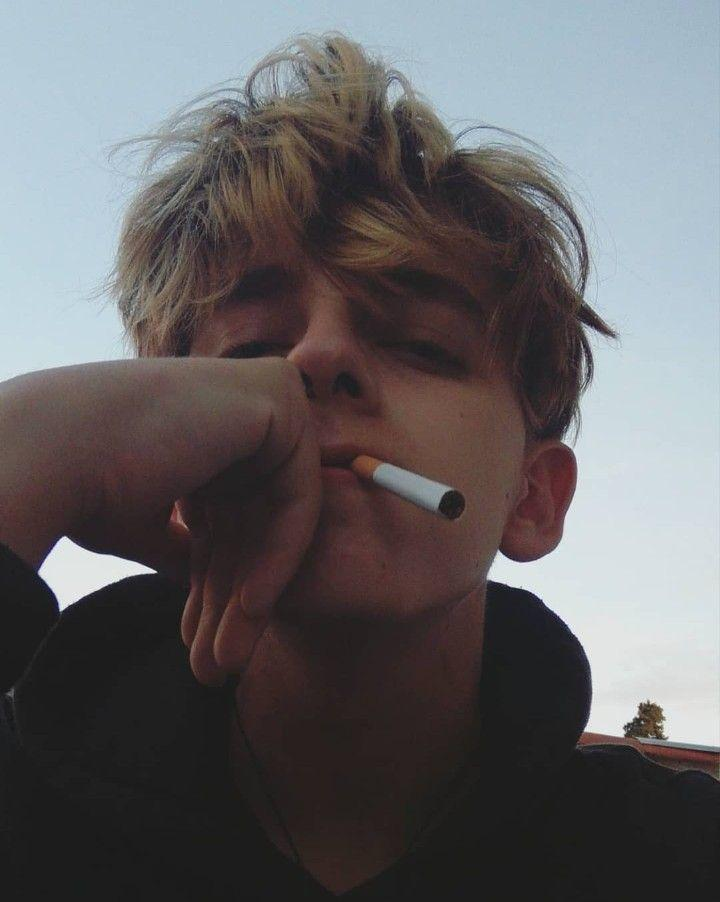cigarette: (345, 454, 467, 521)
